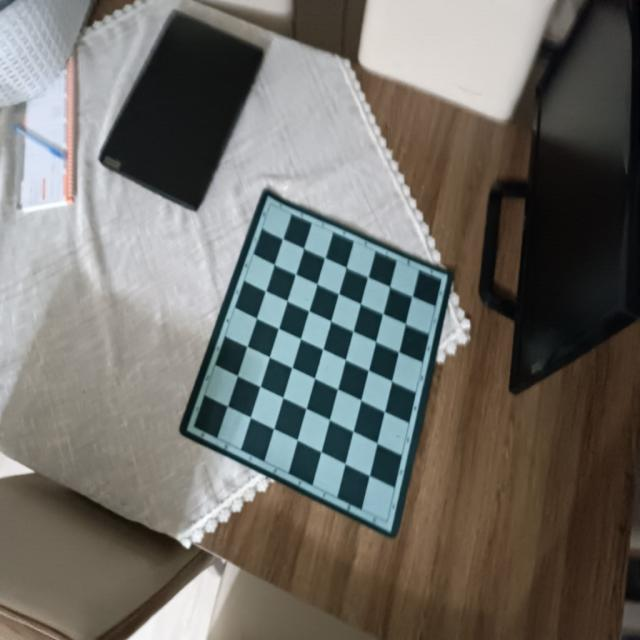corner: (375, 504, 400, 535), (432, 269, 448, 291), (187, 414, 201, 436), (266, 193, 278, 214)
